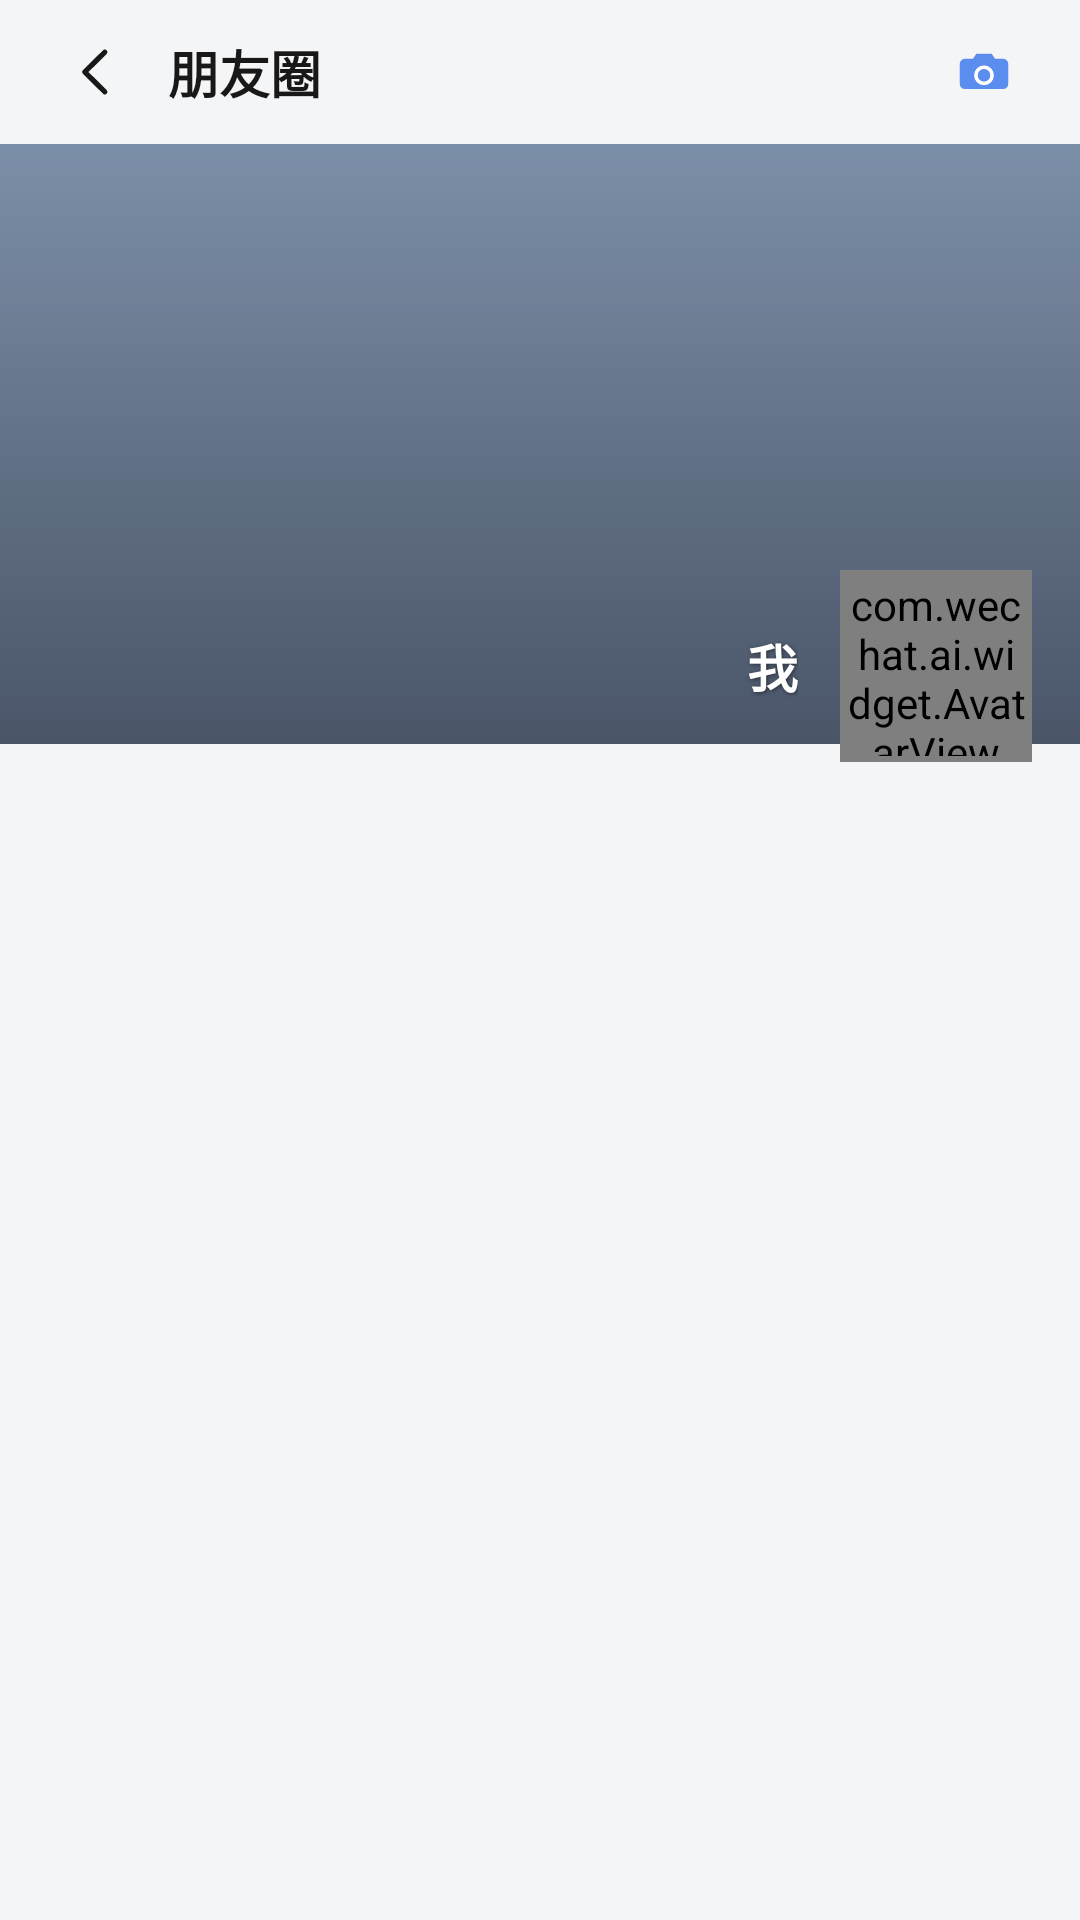

Where icons sit on this 1080×1920 app screen, as Rect(x1, y1, x2, y2):
返回: Rect(82, 49, 108, 95)
